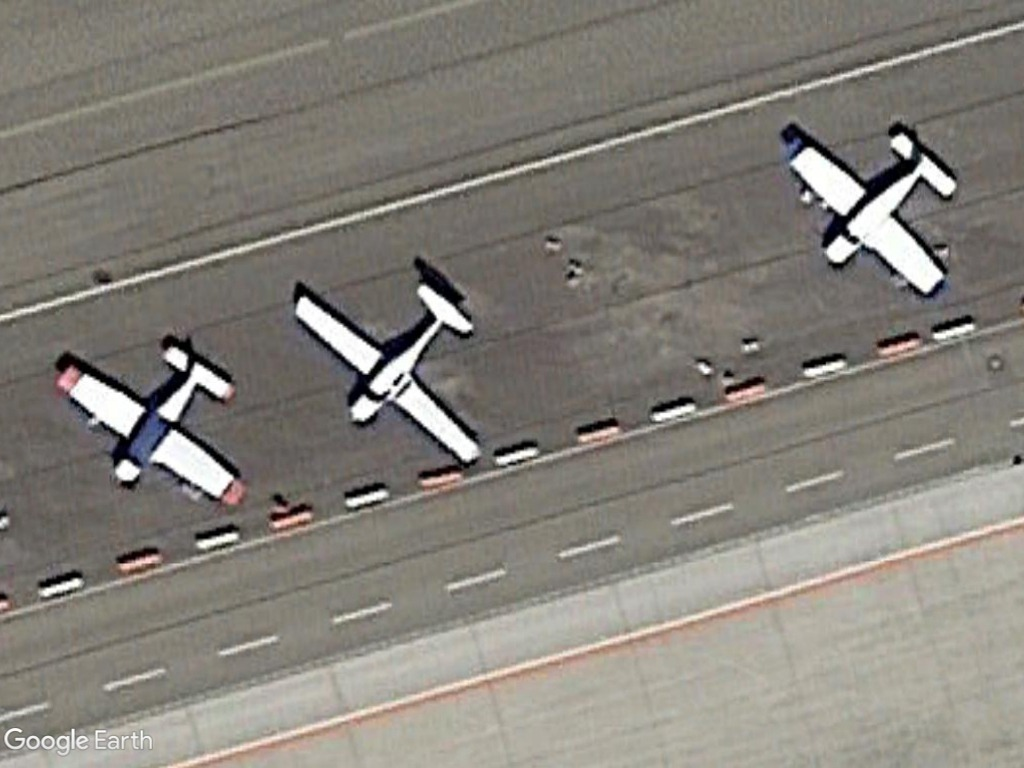trainer: (286, 279, 485, 469), (53, 346, 249, 515), (779, 128, 958, 301)
